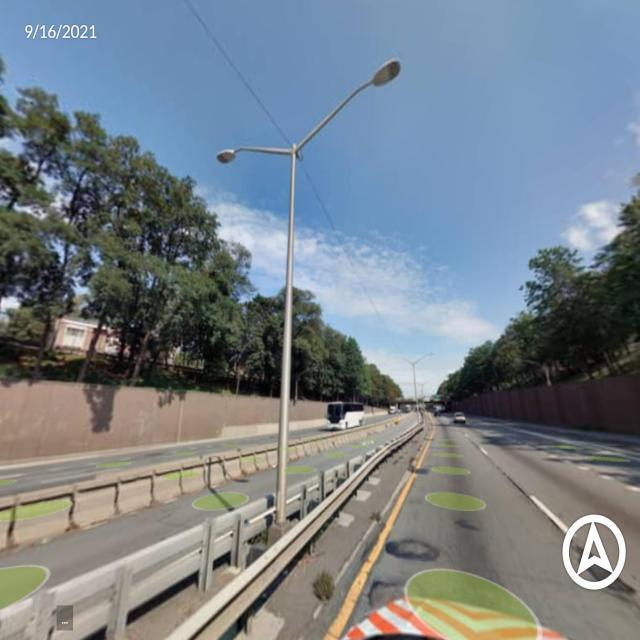off: (160, 60, 436, 174)
